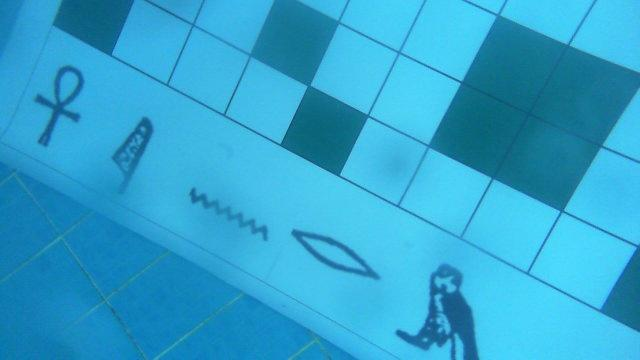Ankh: (33, 61, 84, 155)
Mouth: (291, 226, 379, 285)
Owl: (395, 258, 486, 360)
Reed: (112, 117, 158, 197)
Water: (184, 187, 272, 243)
